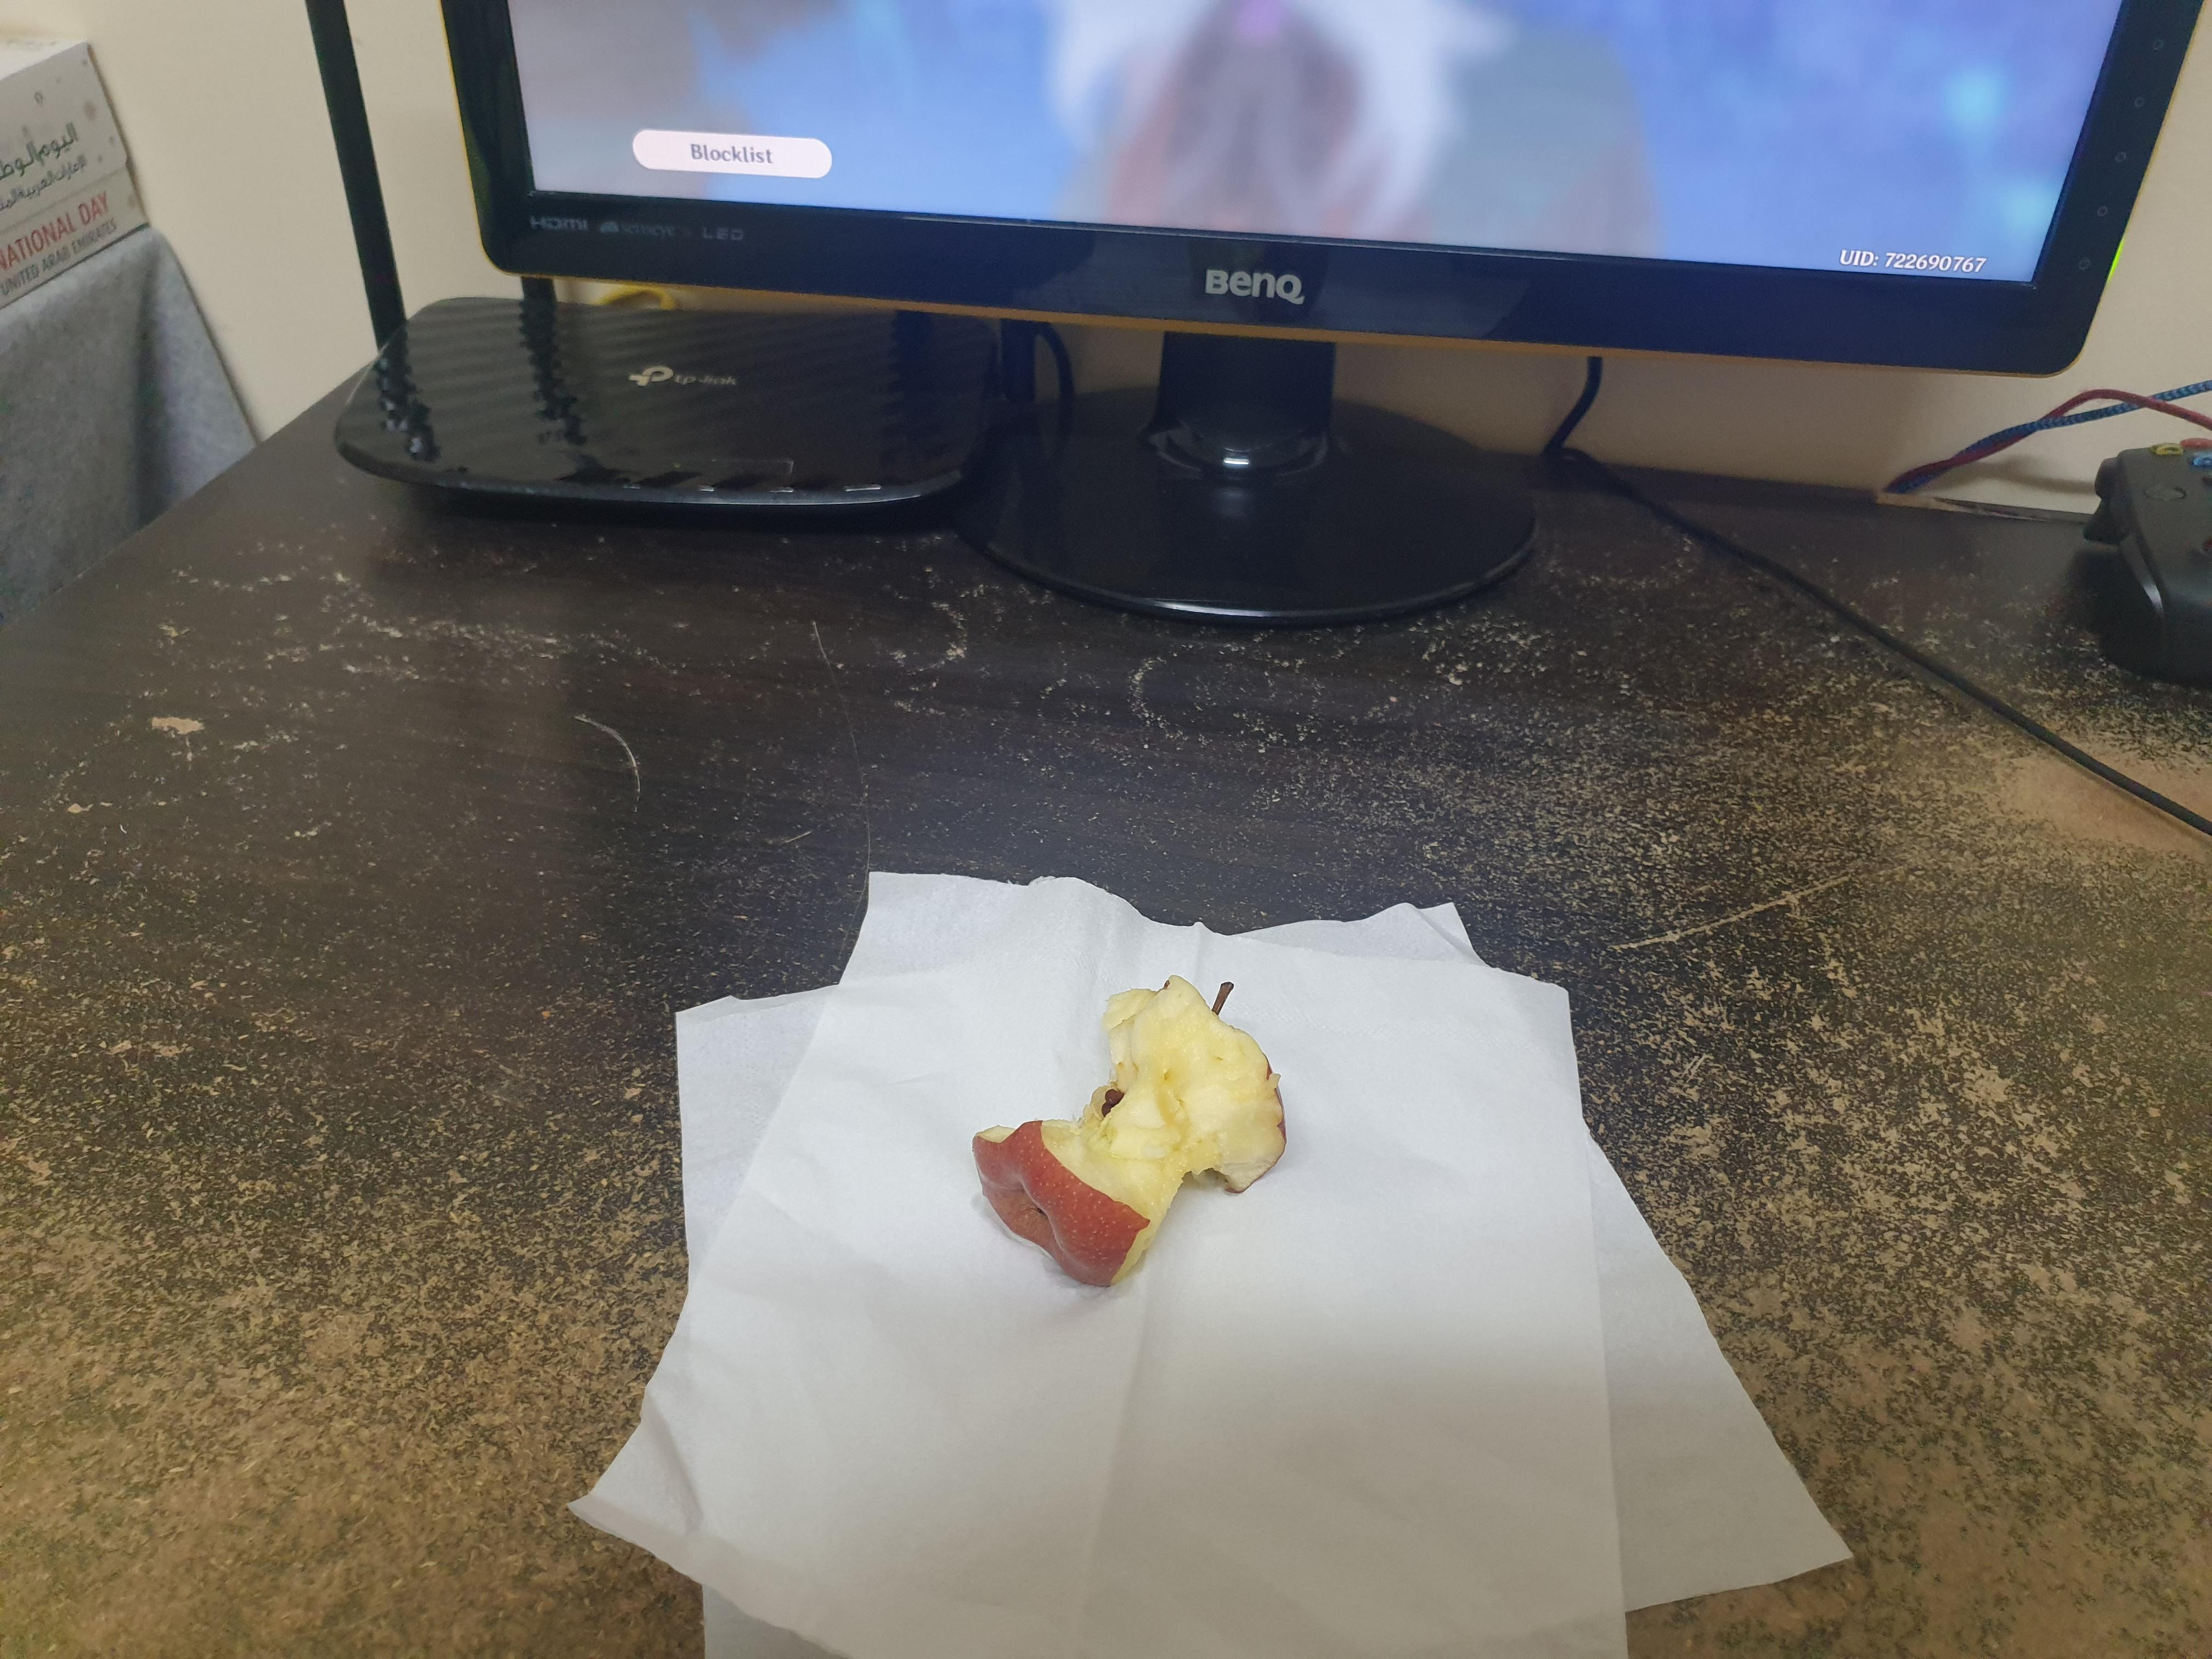Apple: (953, 941, 1315, 1305)
